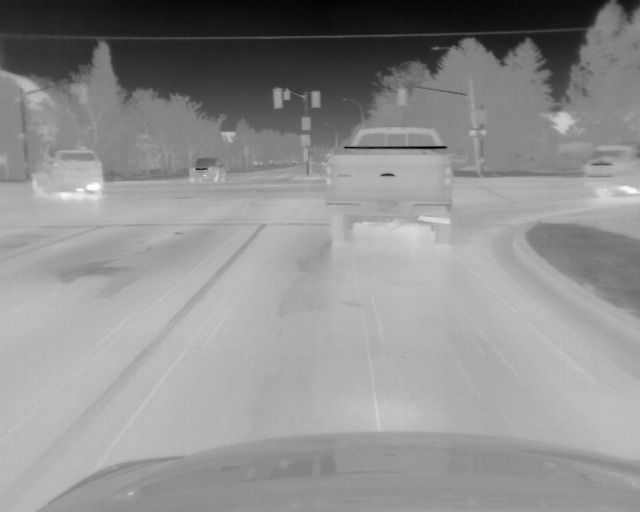car: (322, 126, 453, 245), (31, 147, 103, 198), (584, 142, 640, 196), (187, 157, 226, 183)
